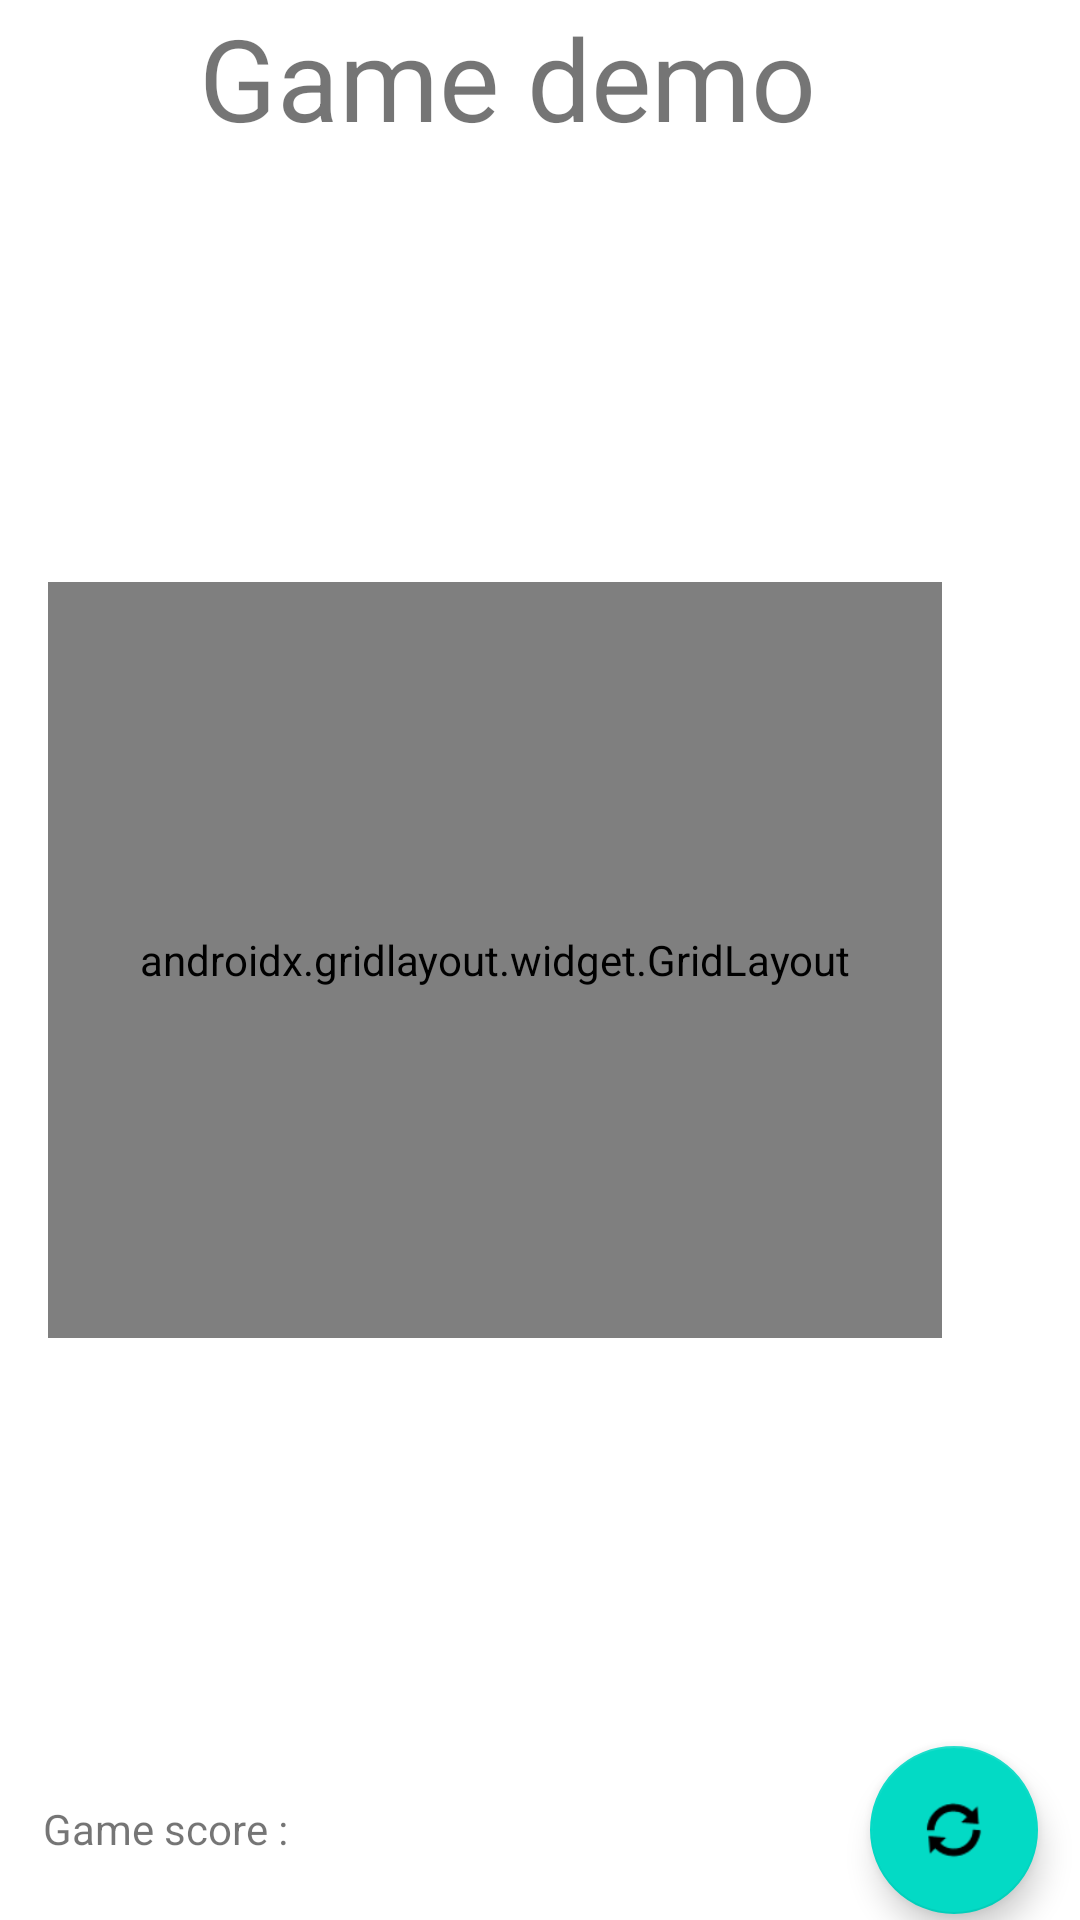

Icons on this 1080×1920 Android screen, each with the point to tap as (x,y):
popup sync: (954,1830)
